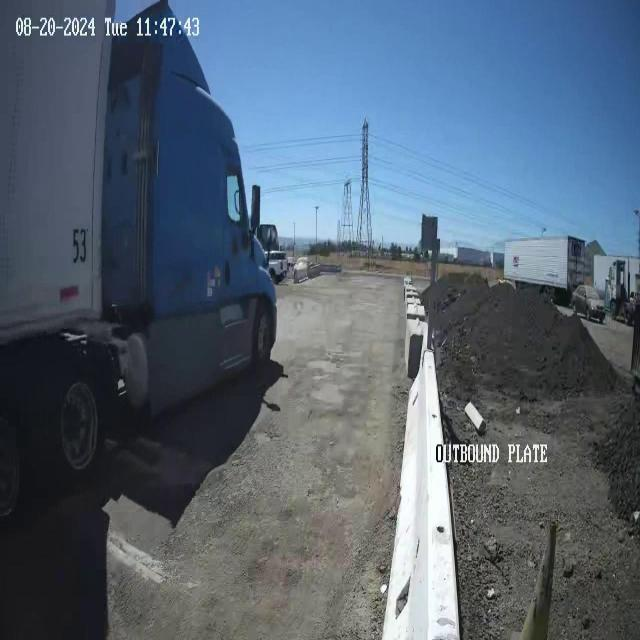TRUCK_IN: (0, 0, 278, 501)
